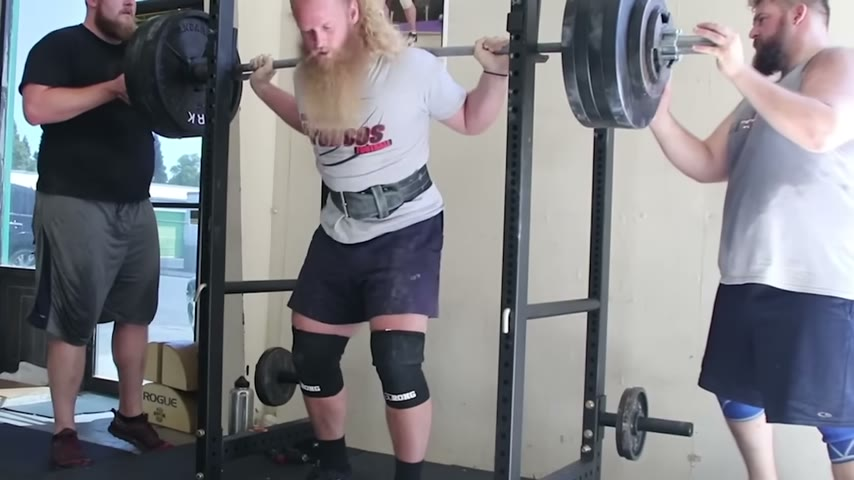barbell_plate_side: (549, 0, 615, 158)
